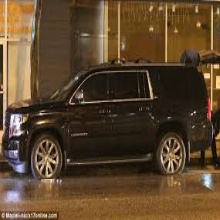no damage: (2, 64, 216, 179)
